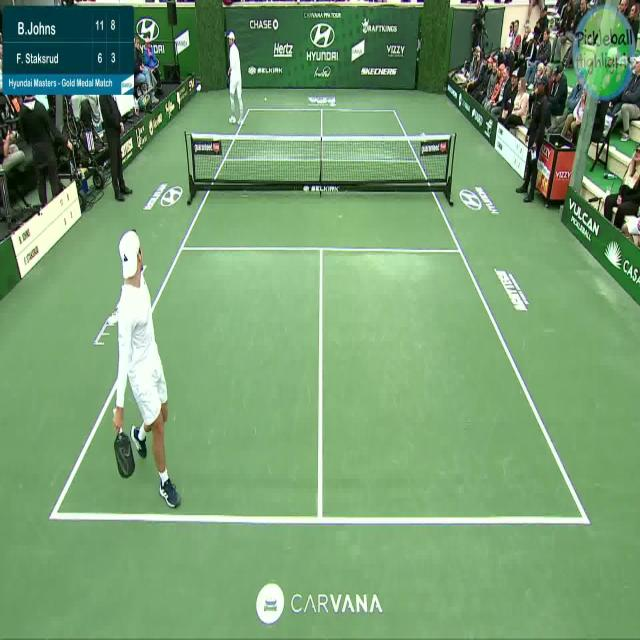ball: (260, 90, 271, 108)
